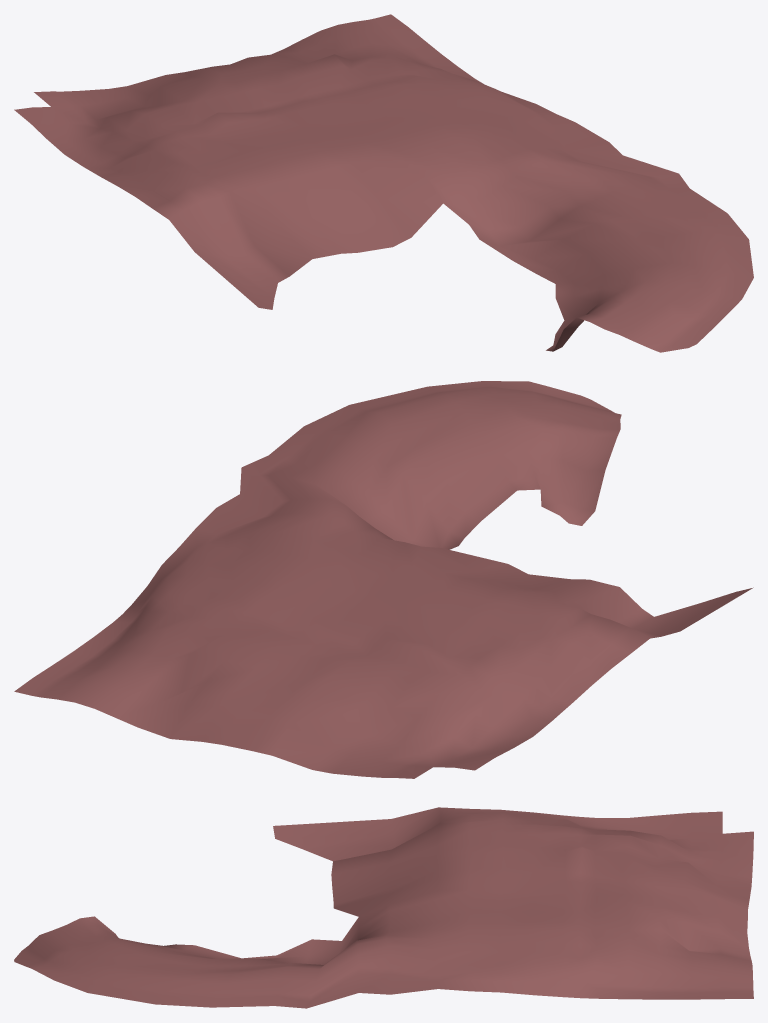
Rendered from orthisone.fbx.
3 views of the same model, one above another, from view 1: azimuth 30°, elevation 25°; view 2: azimuth 150°, elevation 25°; view 3: azimuth 270°, elevation 25° (orthographic). The views are drawn at different scales.
Parts seen in each view (by area): view 1: terrain_beach_round_uv_01; view 2: terrain_beach_round_uv_01; view 3: terrain_beach_round_uv_01.
Part boxes in pixels (left/top/right/bottom): terrain_beach_round_uv_01: left=14, top=14, right=753, bottom=352; terrain_beach_round_uv_01: left=14, top=381, right=753, bottom=778; terrain_beach_round_uv_01: left=14, top=807, right=753, bottom=1008.
Size of the model in its own units: 274 by 51.85 by 440.
